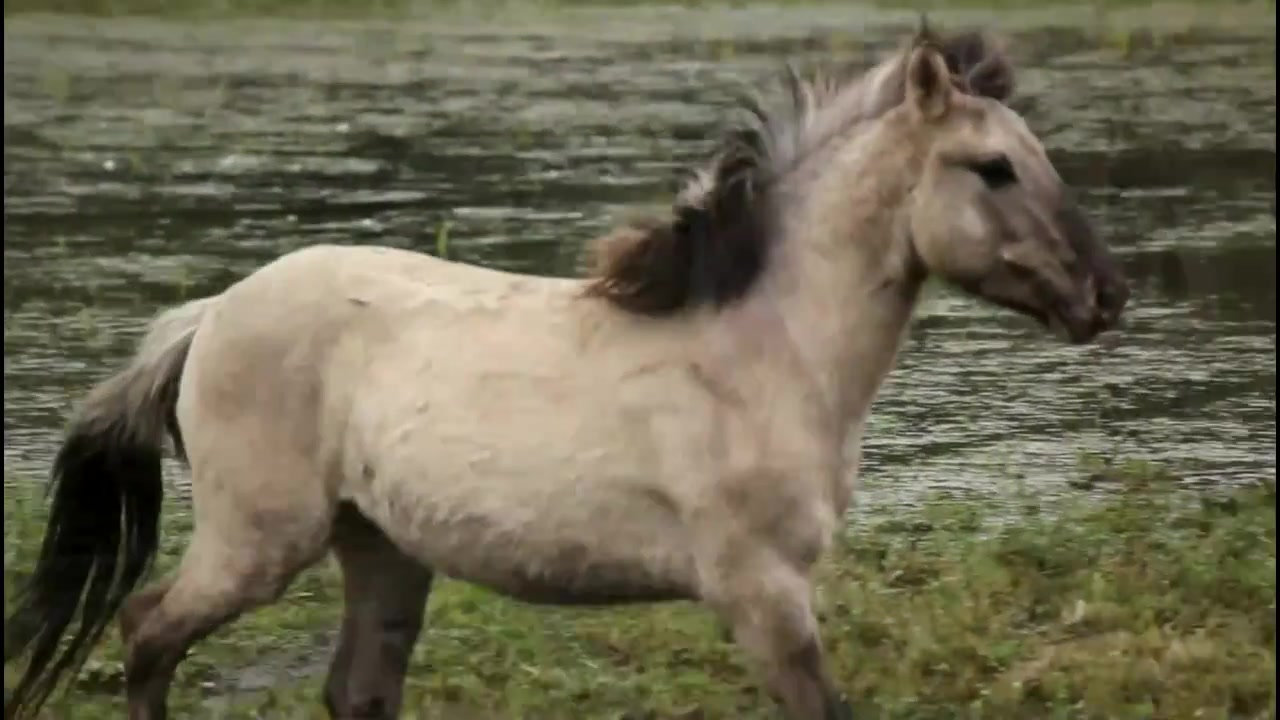horse: (5, 30, 1139, 720)
